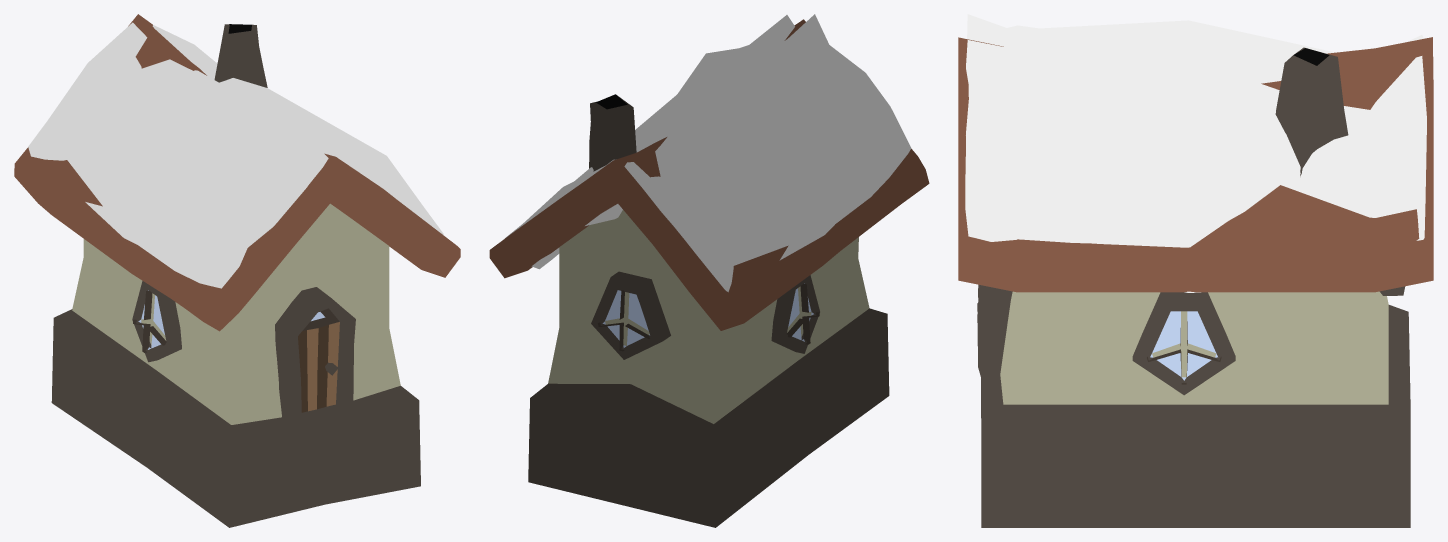
Rendered from house_simple_03.dae.
3 views of the same model, side by side, from view 1: azimuth 30°, elevation 25°; view 2: azimuth 150°, elevation 25°; view 3: azimuth 270°, elevation 25° (orthographic). The views are drawn at different scales.
Parts seen in each view (by area): view 1: house_simple_03-0; view 2: house_simple_03-0; view 3: house_simple_03-0.
Part boxes in pixels (bbox=[...]): house_simple_03-0: bbox=[14, 14, 460, 527]; house_simple_03-0: bbox=[489, 14, 929, 527]; house_simple_03-0: bbox=[958, 14, 1433, 527].
Bounding box in the file's own units: 6.52 × 9.06 × 8.69.
